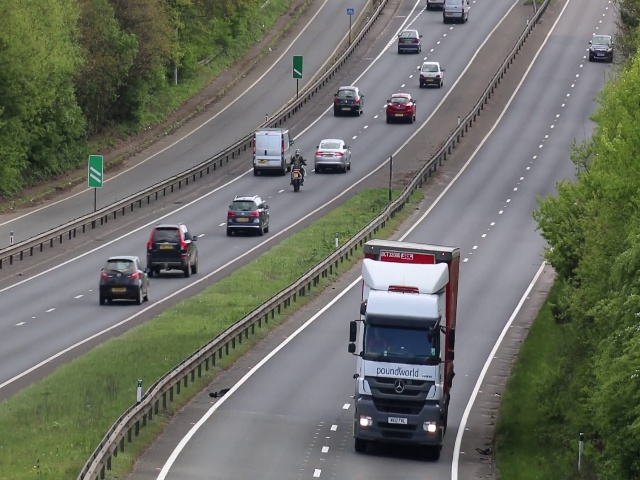car: (146, 226, 199, 277), (99, 255, 151, 305), (224, 192, 269, 238), (250, 128, 294, 173), (315, 136, 350, 173), (330, 85, 366, 117), (386, 90, 416, 124), (417, 62, 447, 89), (590, 31, 613, 62), (440, 1, 471, 23), (396, 30, 422, 54)
